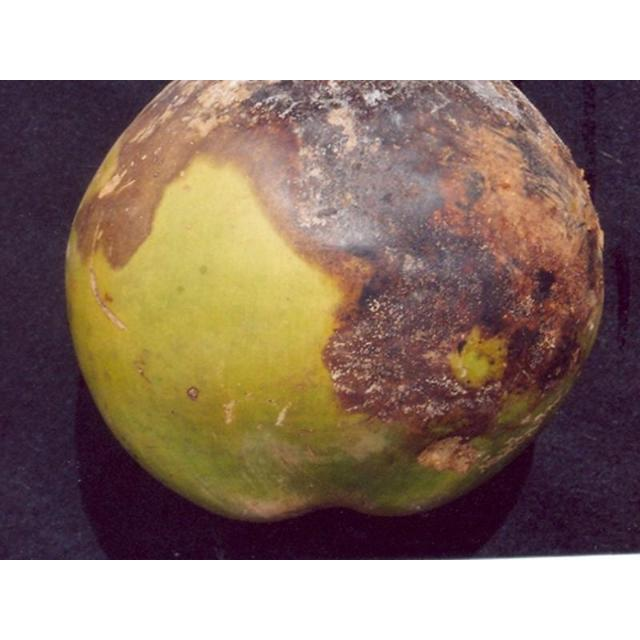damaged: (63, 80, 606, 526)
